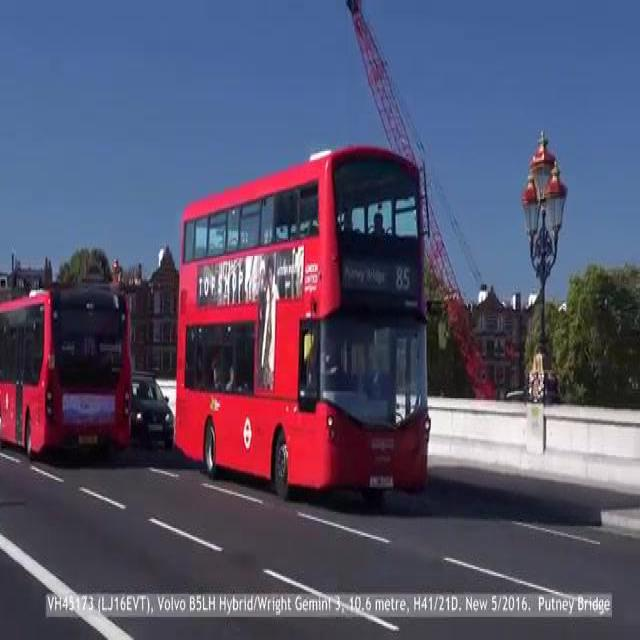motorcycle: (174, 148, 432, 498), (0, 274, 137, 471)
